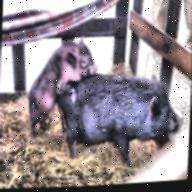boar: (51, 51, 192, 189)
